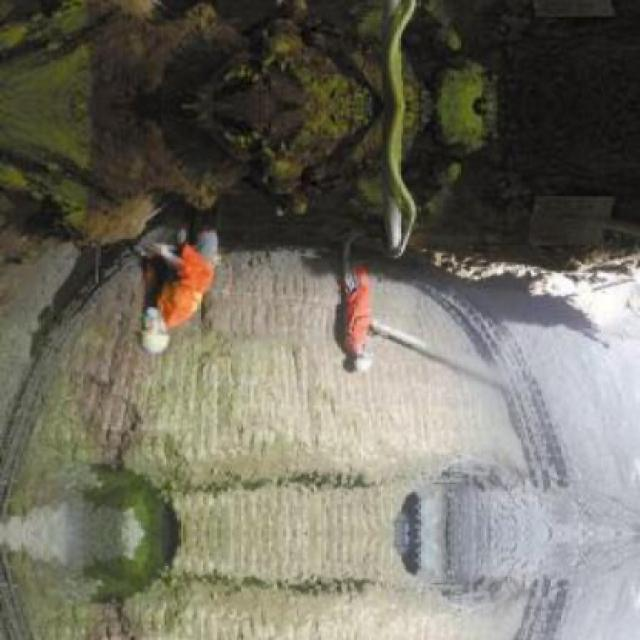con casco: (122, 296, 186, 360), (324, 333, 372, 375)
